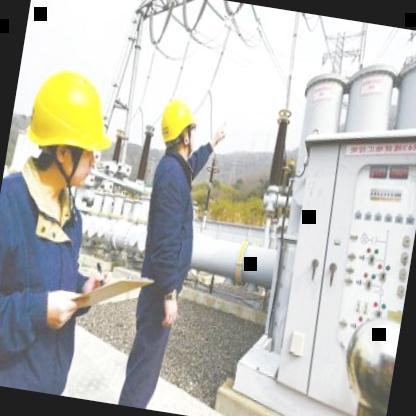helmet: (10, 52, 121, 206), (152, 88, 202, 161)
